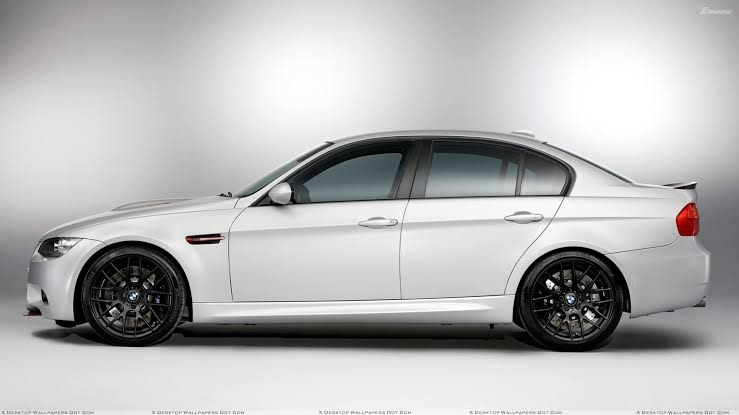bmw: (22, 111, 720, 354)
